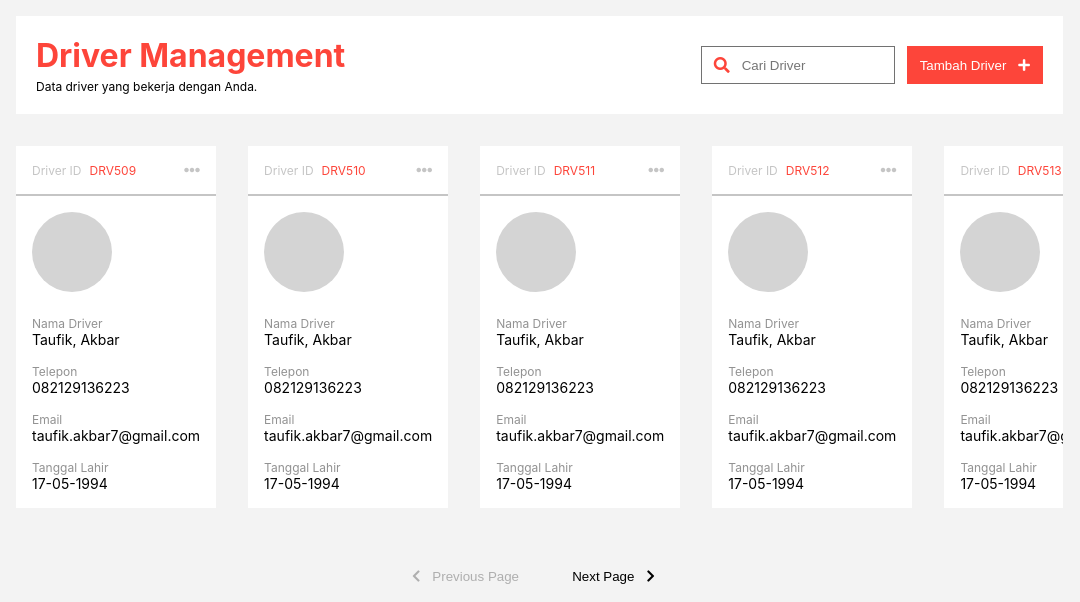
Test: Component:UserDisplay › Should let user go next page and set offset on url search query
The image size is (1080, 602).
What coordinates should you click on to do the following:
click the button with test id "next-button"
I would click on:
 (620, 576)
Its box is [540, 568, 700, 585].
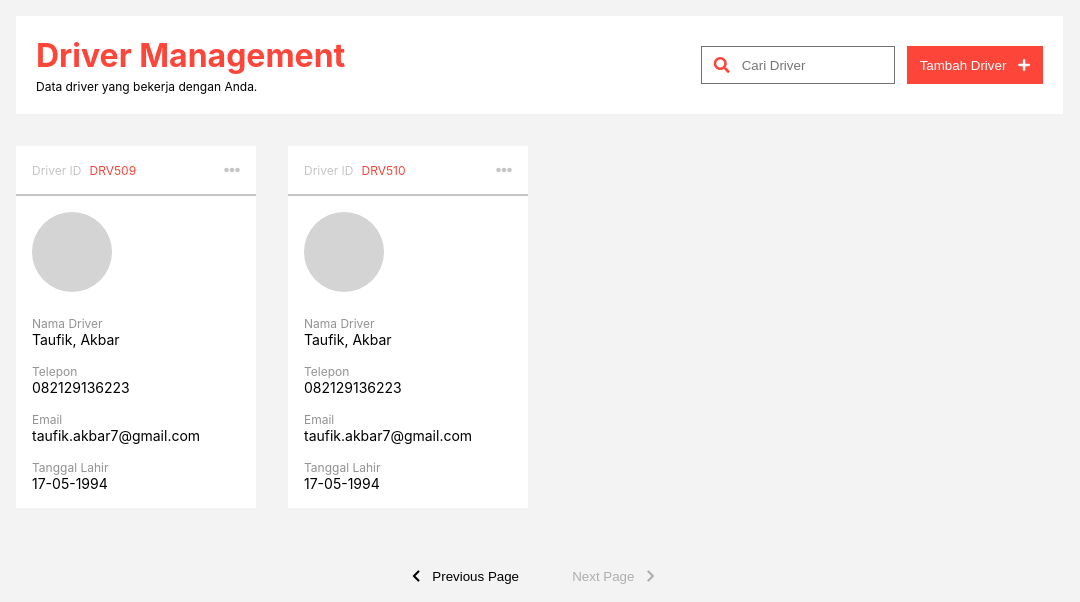
expect the button with test id "prev-button" is enabled: met, box [380, 568, 540, 585]
expect the button with test id "next-button" is disabled: met, box [540, 568, 700, 585]
